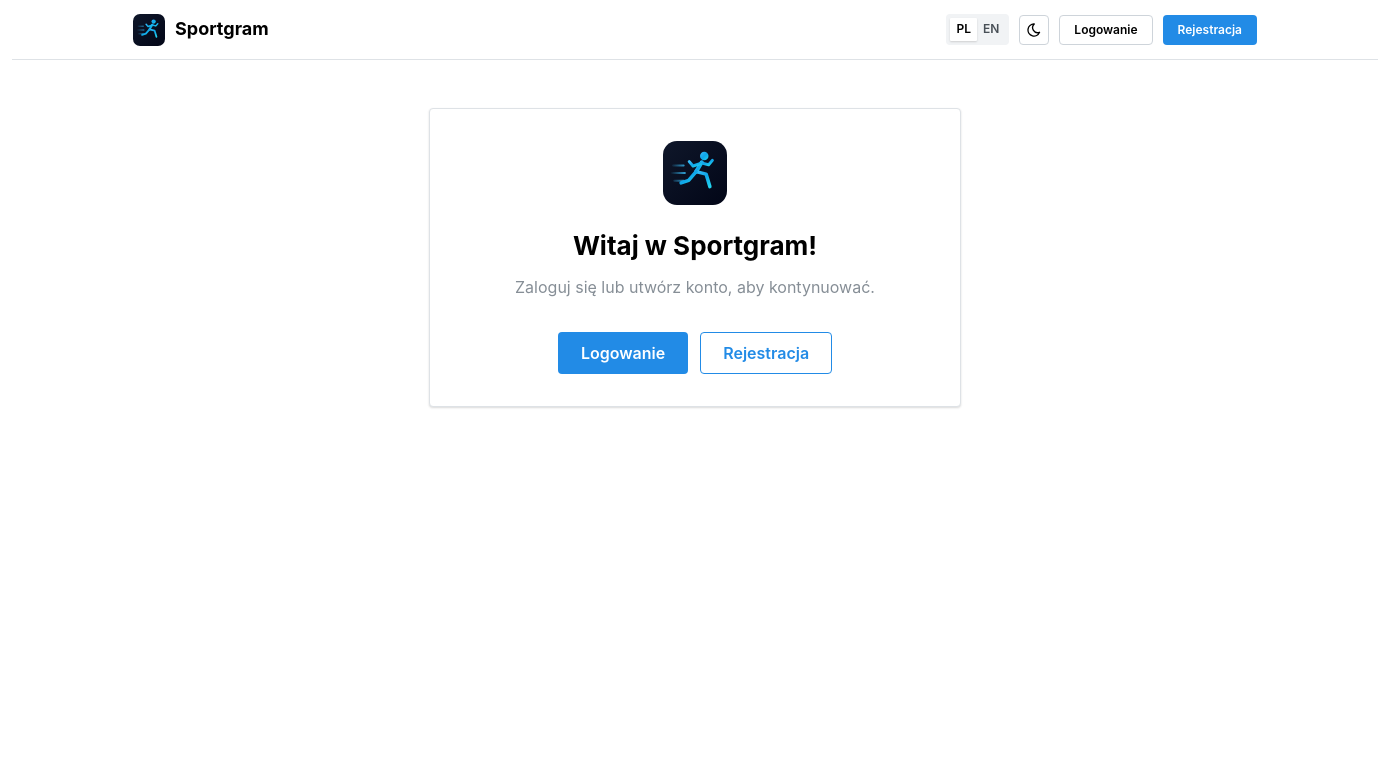
Test case: application routes › shows the guest home actions and navigates to sign-in
Expected: the heading "Witaj w Sportgram!" is shown, [573,230,817,261]
Click the button "Logowanie" below "Witaj w Sportgram!": coordinates (623, 353) [558,332,688,374]
(page scrolled)
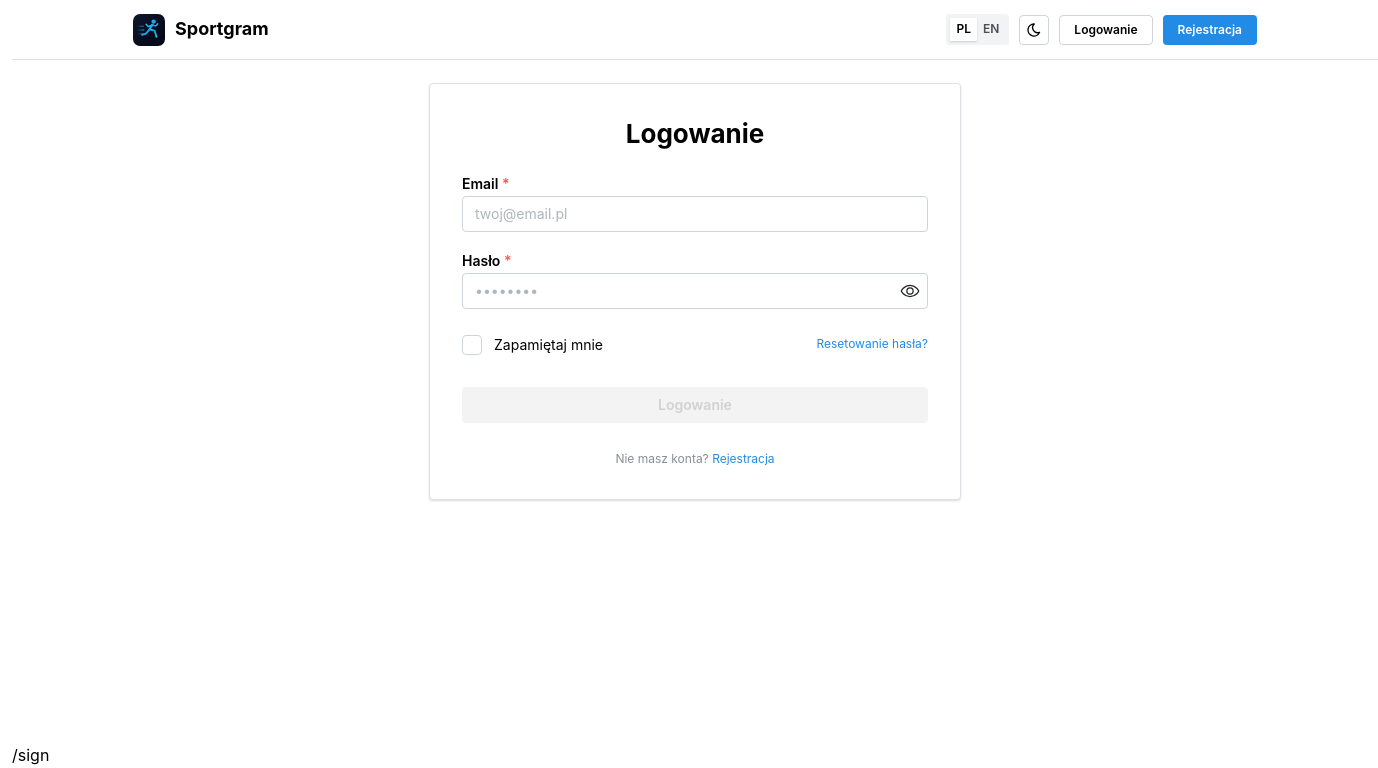
Result: the text named "current location" reads "/sign" at [12,745,49,765]
